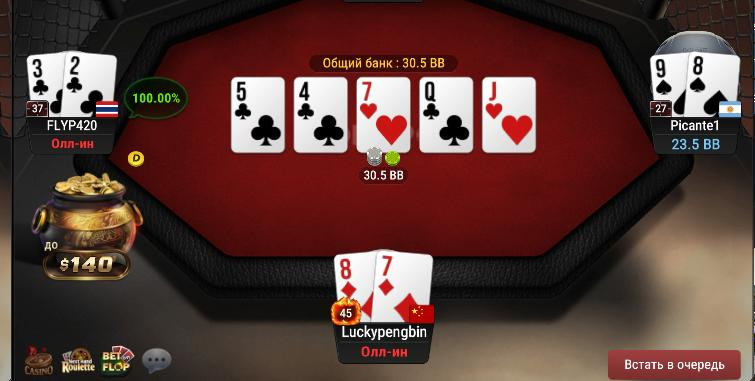2c: (64, 52, 114, 118)
3c: (26, 53, 64, 118)
4c: (294, 78, 345, 151)
5c: (232, 77, 283, 153)
7d: (374, 248, 432, 323)
7h: (357, 77, 410, 151)
8d: (332, 249, 374, 321)
8s: (686, 52, 739, 117)
9s: (651, 56, 687, 118)
Jh: (483, 78, 536, 152)
Qc: (421, 78, 472, 153)
